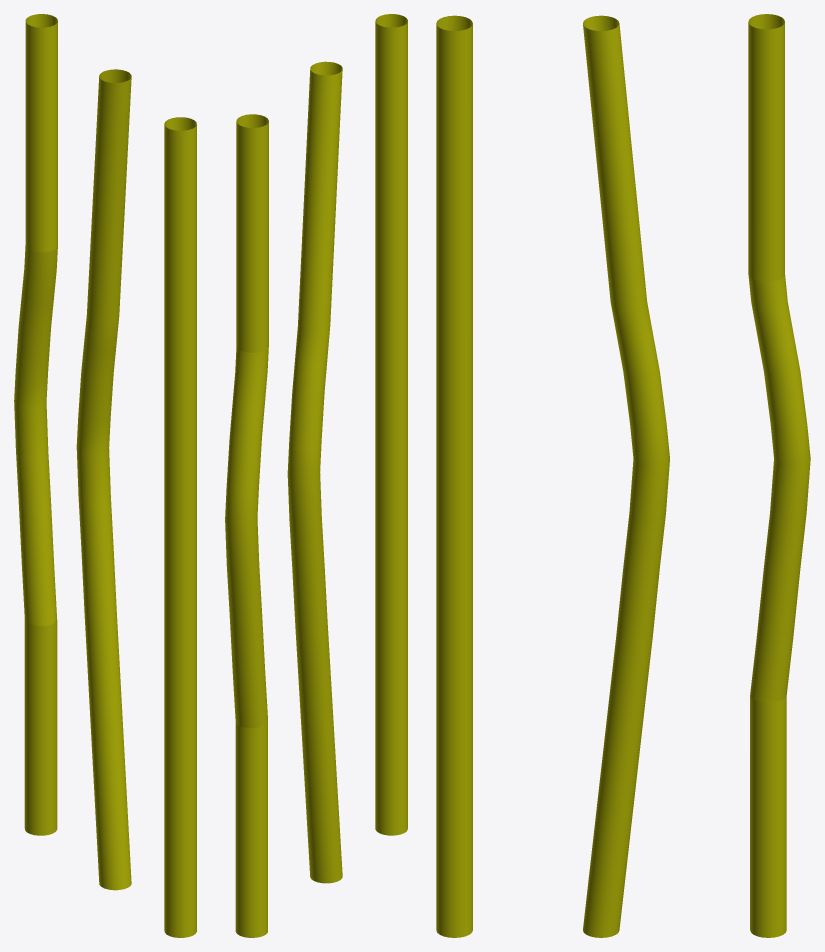
Rendered from Barrotes.fbx.
3 renders of one model, left to right at view 1: azimuth 30°, elevation 25°; view 2: azimuth 150°, elevation 25°; view 3: azimuth 270°, elevation 25°, orthographic. The views are drawn at different scales.
Visible parts, largest first — view 1: Barrote2, Barrote1, Barrote; view 2: Barrote1, Barrote2, Barrote; view 3: Barrote1, Barrote2, Barrote.
Part boxes in pixels (box(x1,y1,x2,y2)): Barrote2: box(14, 14, 57, 835); Barrote1: box(76, 69, 131, 890); Barrote: box(164, 117, 196, 937); Barrote1: box(287, 61, 342, 883); Barrote2: box(225, 114, 268, 937); Barrote: box(375, 14, 407, 835); Barrote1: box(583, 15, 669, 937); Barrote2: box(748, 14, 810, 937); Barrote: box(436, 15, 472, 937).
Size of the model in its own units: 0.2583 by 7.06 by 2.64.
